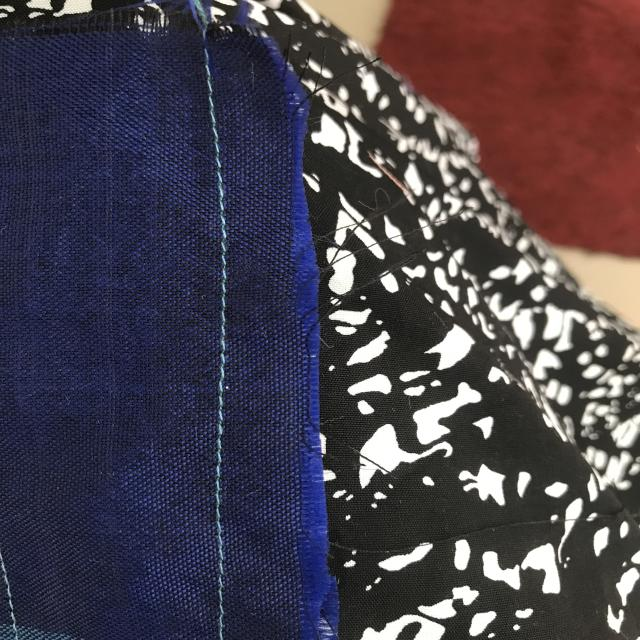good: (193, 89, 240, 242), (208, 412, 240, 564), (215, 268, 248, 390)
